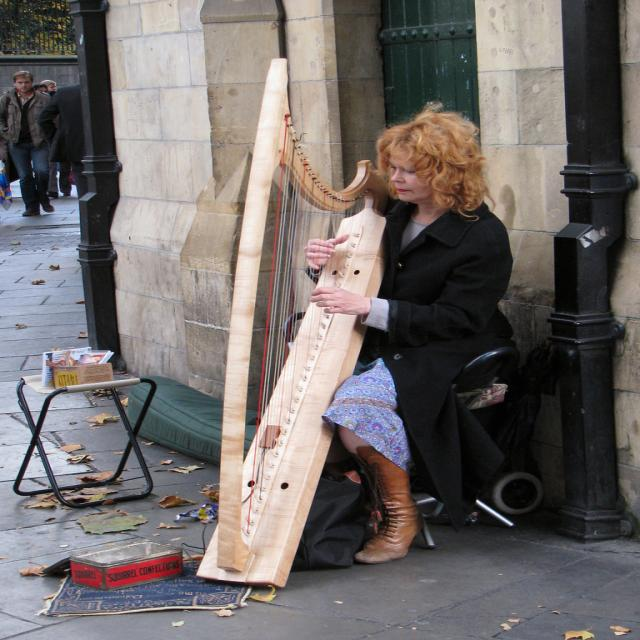harp: (189, 58, 398, 593)
